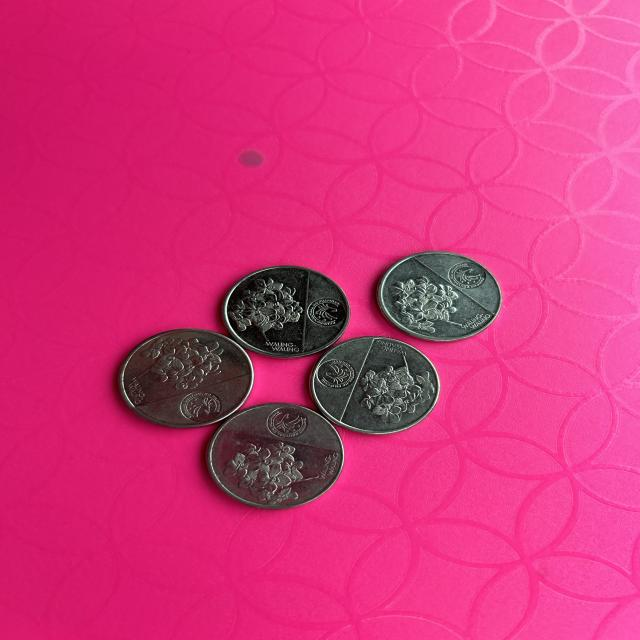1_New_Back: (226, 438, 316, 496), (359, 360, 436, 424), (387, 269, 459, 337), (136, 333, 229, 383), (223, 278, 298, 338)
